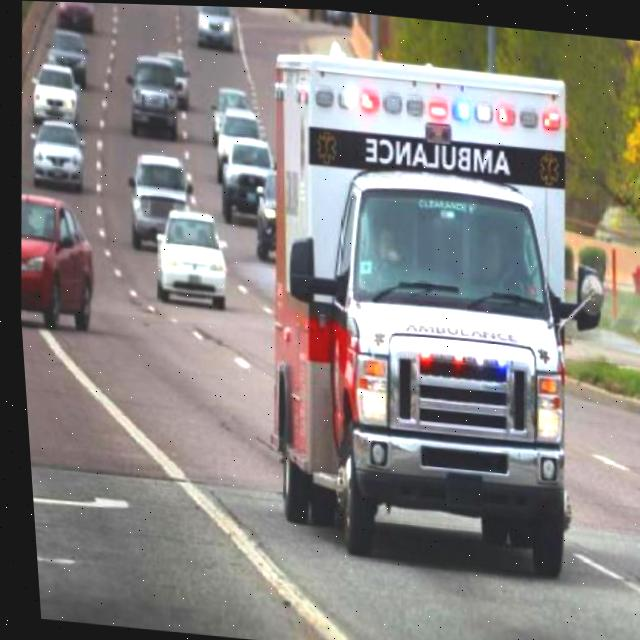emergency: (230, 37, 626, 579)
